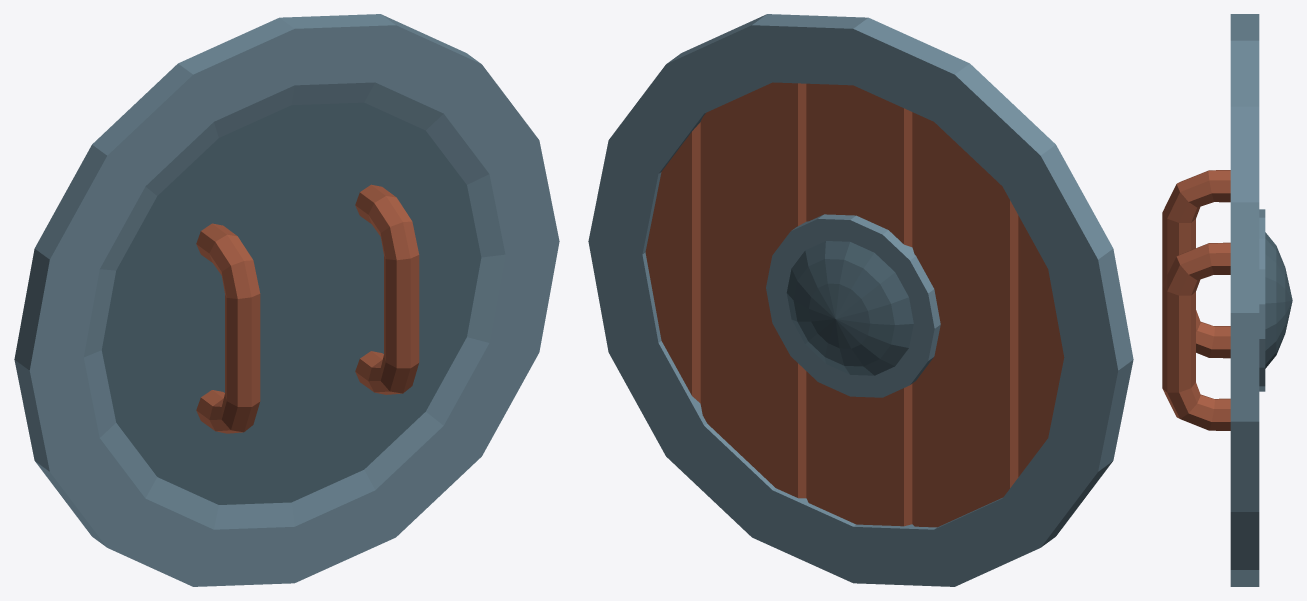
The model's file is Shield.fbx.
3 renders of one model, left to right at view 1: azimuth 30°, elevation 25°; view 2: azimuth 150°, elevation 25°; view 3: azimuth 270°, elevation 25°, orthographic. The views are drawn at different scales.
Parts seen in each view (by area): view 1: Shield; view 2: Shield; view 3: Shield.
Part boxes in pixels (x1,y1,x2,y2): Shield: (14, 14, 559, 586); Shield: (588, 14, 1133, 586); Shield: (1162, 14, 1292, 586).
Bounding box in the file's own units: 0.7 × 0.1592 × 0.7.
